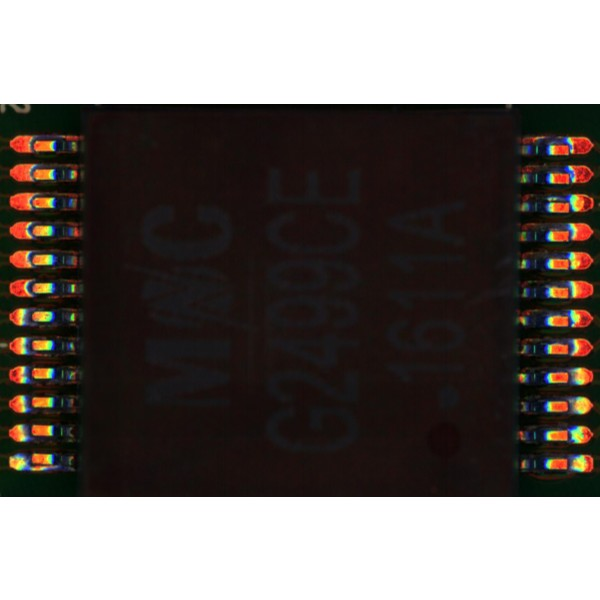Bad_qiaojiao: (30, 464, 59, 472)
